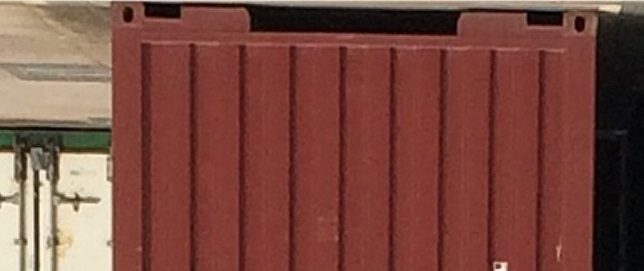container_no_door: (113, 4, 595, 271)
